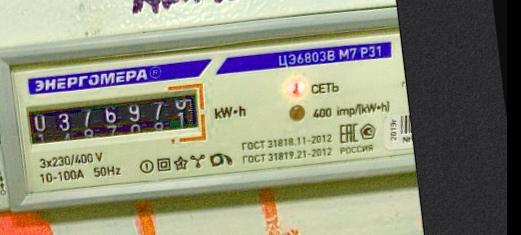0: (32, 111, 47, 132)
1: (175, 109, 188, 128)
3: (56, 110, 71, 131)
6: (102, 101, 118, 124)
7: (78, 105, 94, 128), (150, 98, 165, 121)
9: (126, 101, 141, 123)
screen: (17, 77, 213, 162)
